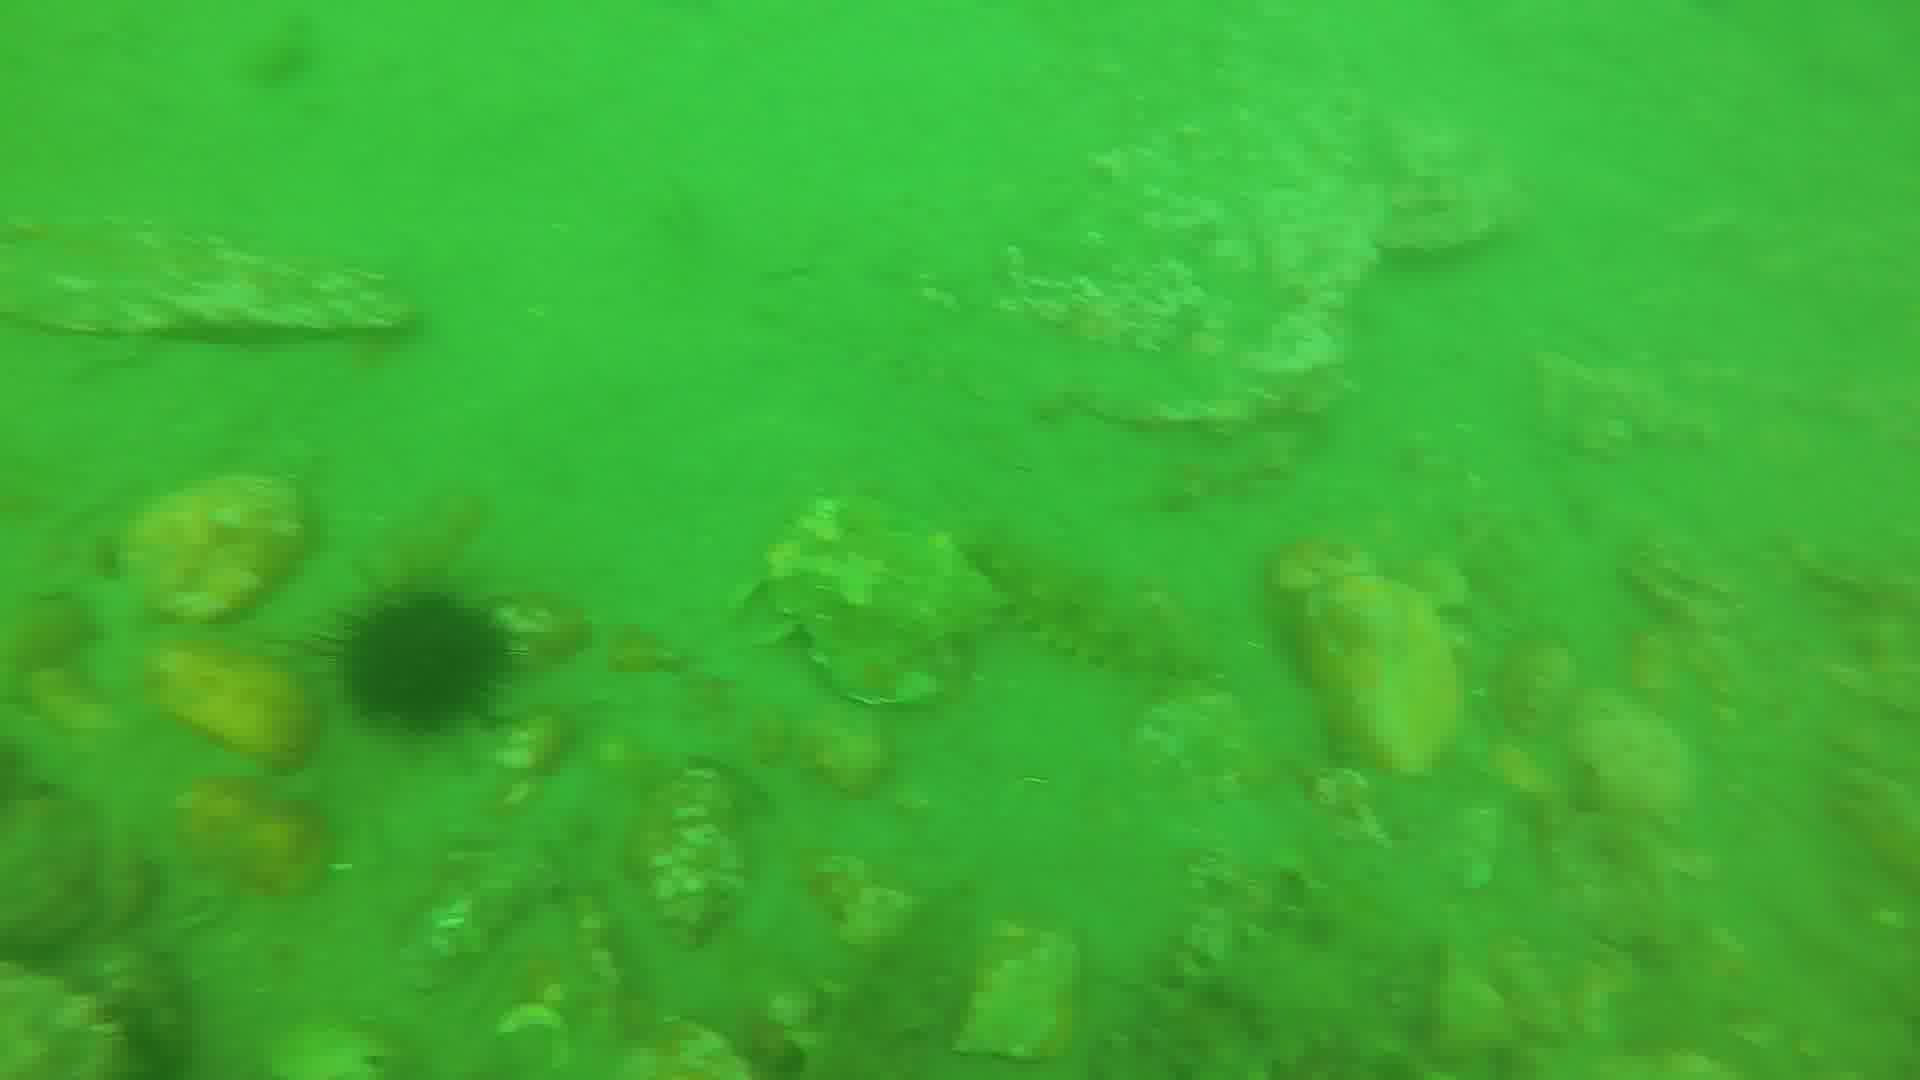echinus: (320, 580, 516, 738)
holothurian: (973, 531, 1195, 678)
